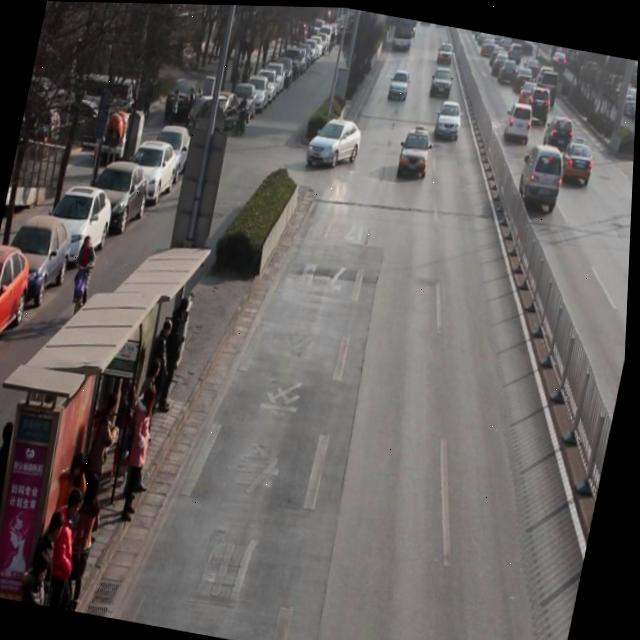car: (305, 110, 366, 169), (558, 133, 599, 187), (398, 122, 436, 180), (433, 96, 466, 143), (543, 112, 577, 153), (505, 102, 536, 142), (528, 84, 554, 122), (537, 67, 561, 105), (429, 65, 454, 99), (388, 67, 411, 103), (498, 56, 520, 83), (514, 66, 535, 91), (492, 49, 512, 75), (518, 77, 538, 103), (436, 41, 456, 64), (549, 50, 569, 71), (531, 61, 550, 82), (525, 56, 541, 73)
truck: (517, 141, 569, 214)
